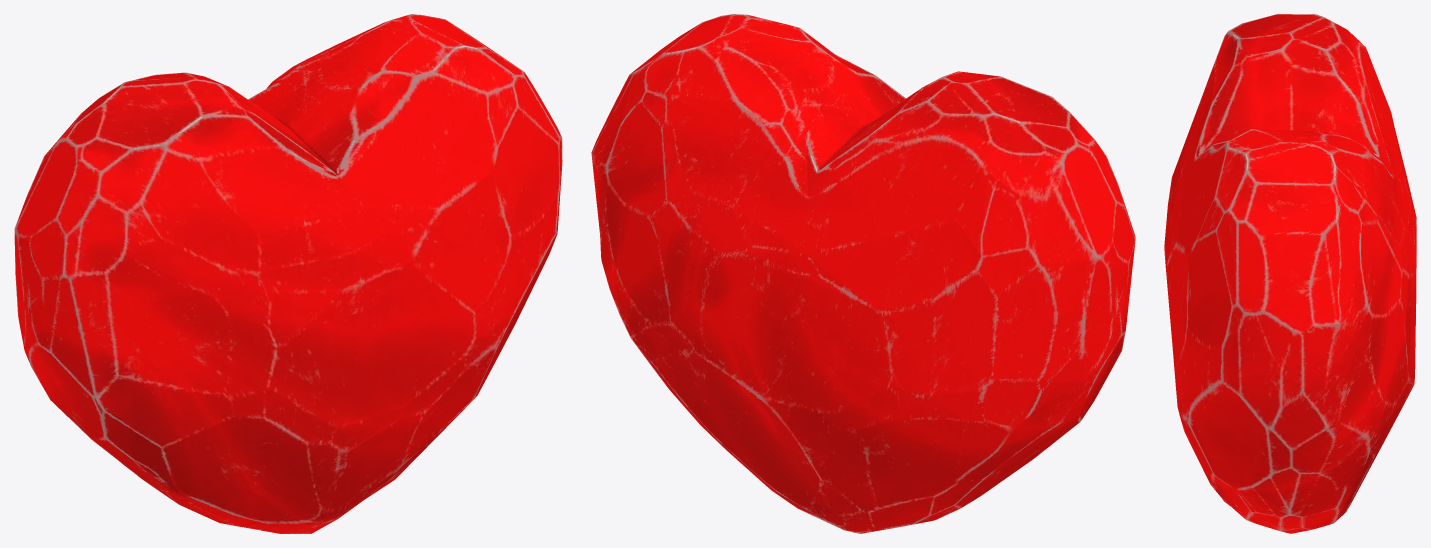
File: love_box.glb
3 views of the same model, side by side, from view 1: azimuth 30°, elevation 25°; view 2: azimuth 150°, elevation 25°; view 3: azimuth 270°, elevation 25° (orthographic). The views are drawn at different scales.
Visible parts, largest first — view 1: Crystal_Heart; view 2: Crystal_Heart; view 3: Crystal_Heart.
Part boxes in pixels (<box>): Crystal_Heart: <box>14,14,562,533</box>; Crystal_Heart: <box>591,14,1135,533</box>; Crystal_Heart: <box>1164,14,1416,533</box>.
Bounding box in the file's own units: 1.16 × 0.9989 × 0.5178.
Materials: 1 (1 with a texture image).
